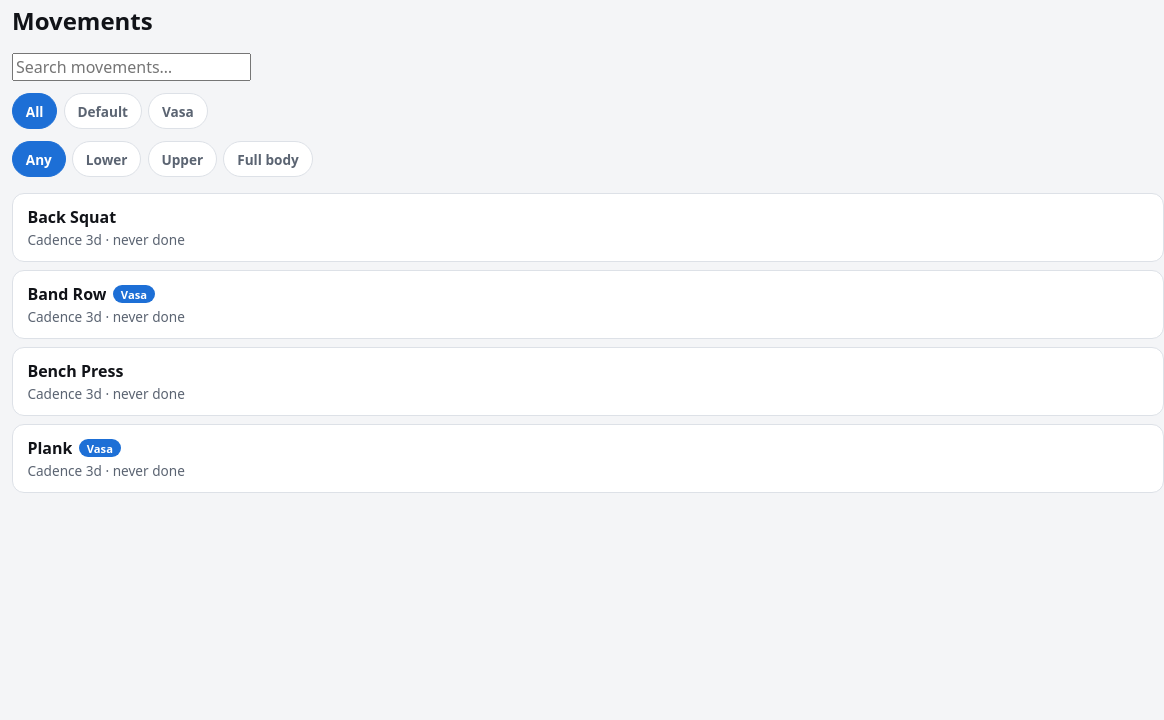
Movements › filters to the Lower region, keeping full-body movements visible
Click the button "Lower": point(107, 159) [72,141,141,177]
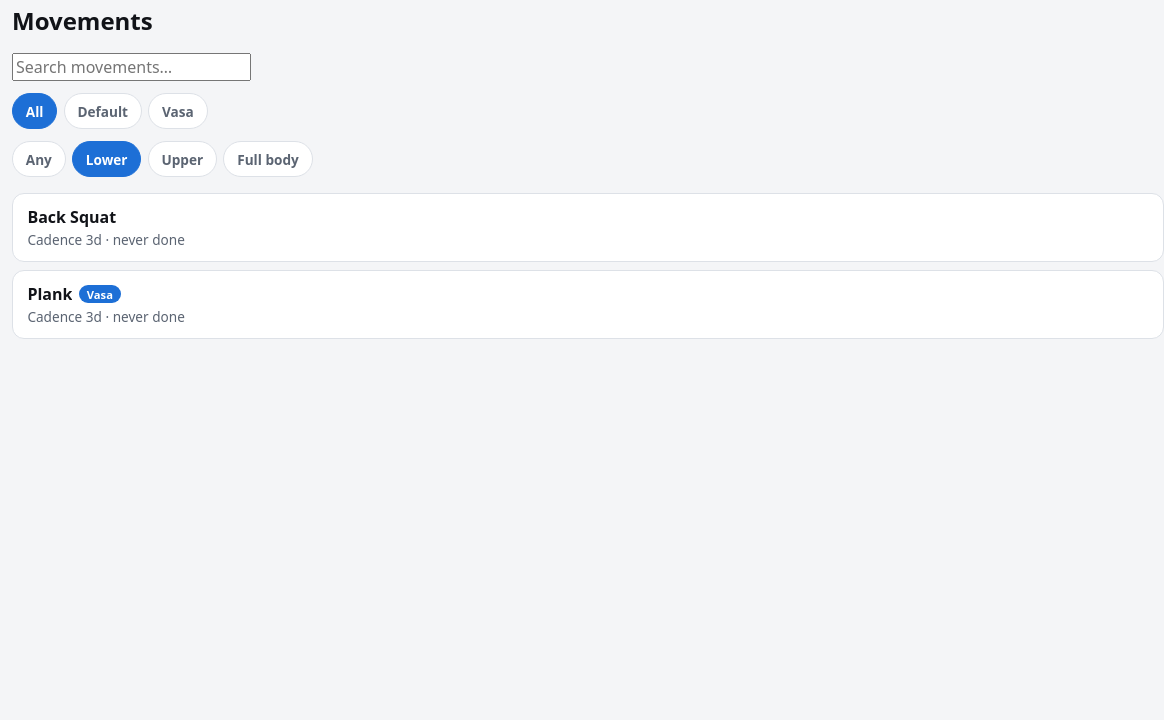
Expected: the text "Back Squat" is shown, [27,206,116,228]
Expected: the link "Bench Press" is gone
Expected: the link "Band Row" is gone
